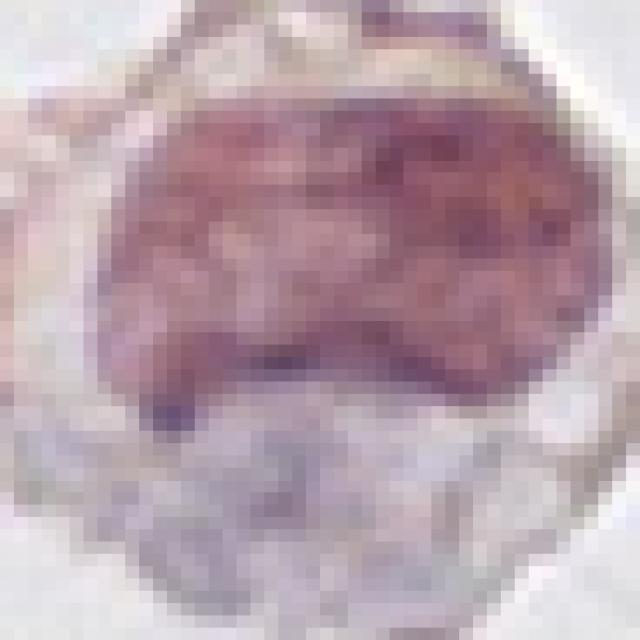cytoplasm: (0, 0, 626, 628)
nucleus: (74, 63, 624, 436)
